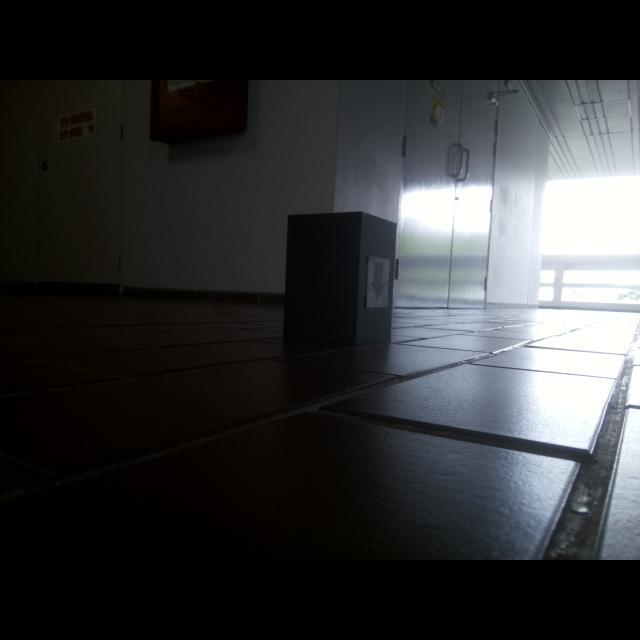DOWN: (369, 261, 388, 302)
